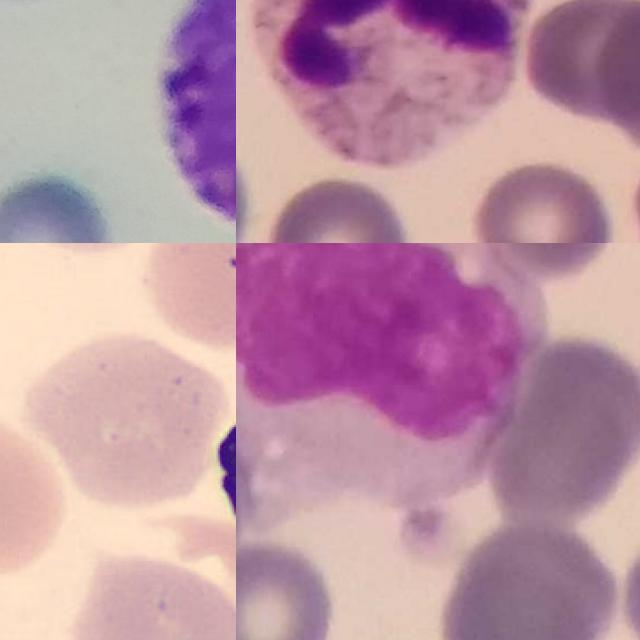Basophil: (161, 0, 236, 243)
Monocyte: (236, 243, 542, 520)
Neutrophil: (256, 0, 524, 163)
RBC: (17, 325, 229, 510), (67, 549, 236, 640), (0, 405, 72, 582), (136, 243, 236, 354)
